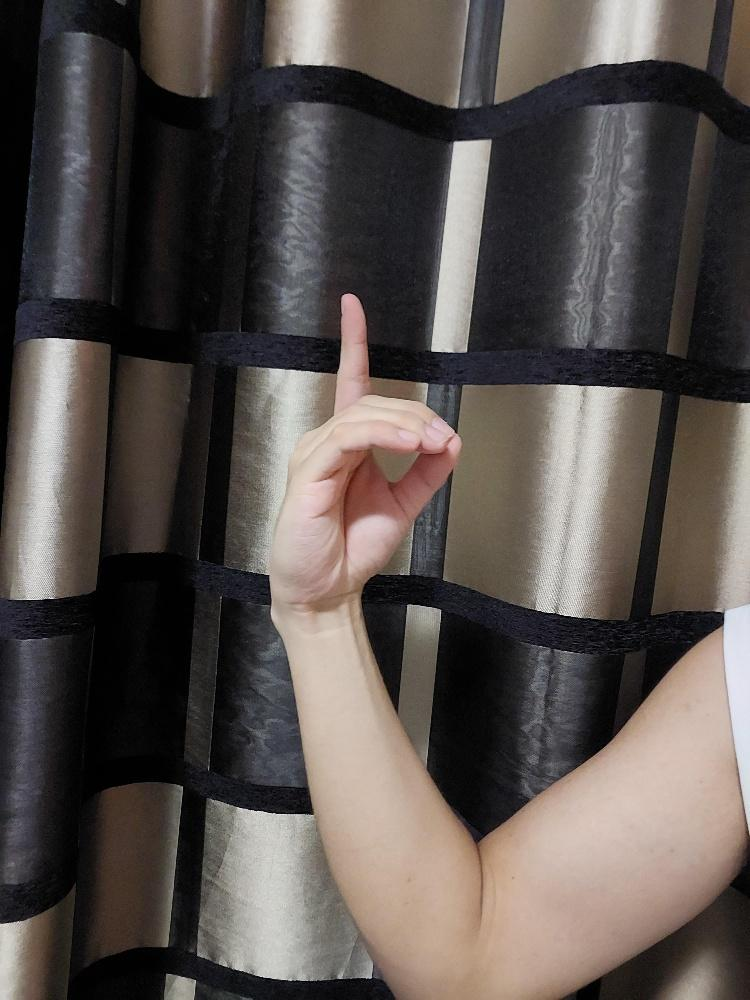d: (266, 291, 463, 616)
